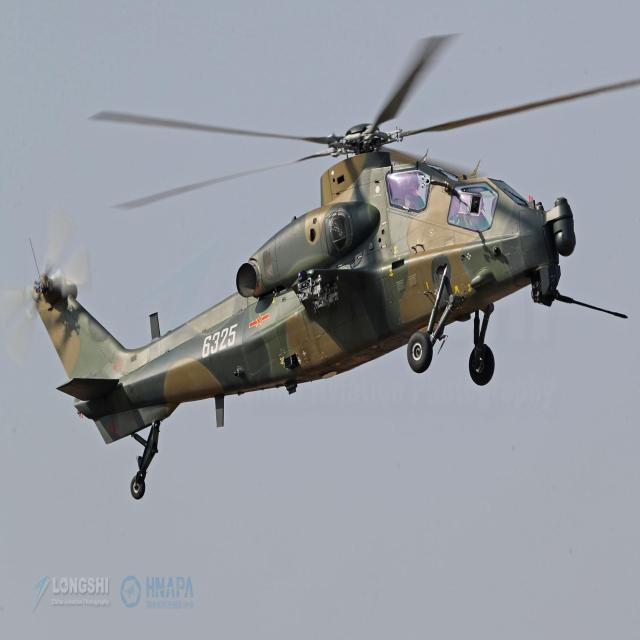MIL_HELO: (19, 19, 640, 514)
